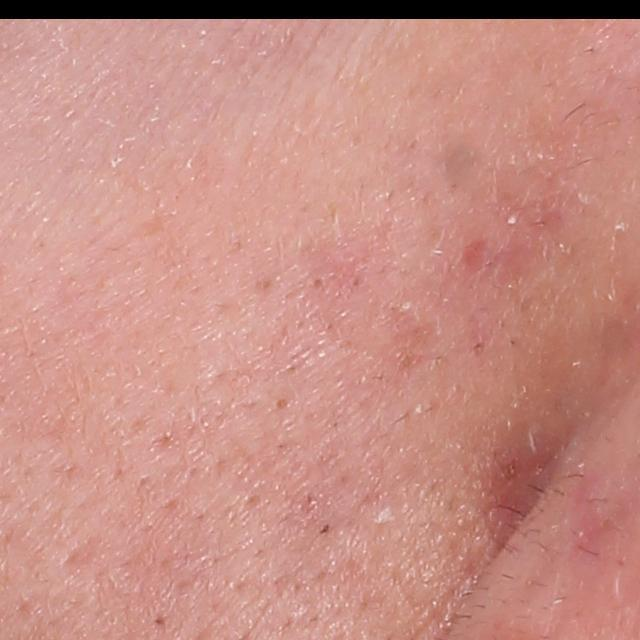comedo: (266, 392, 292, 415)
